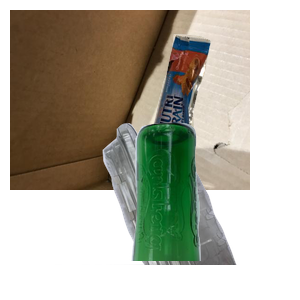cardboard: (10, 10, 250, 190)
glass: (129, 120, 300, 300)
plastic: (55, 120, 284, 300)
trash: (149, 31, 300, 179)
